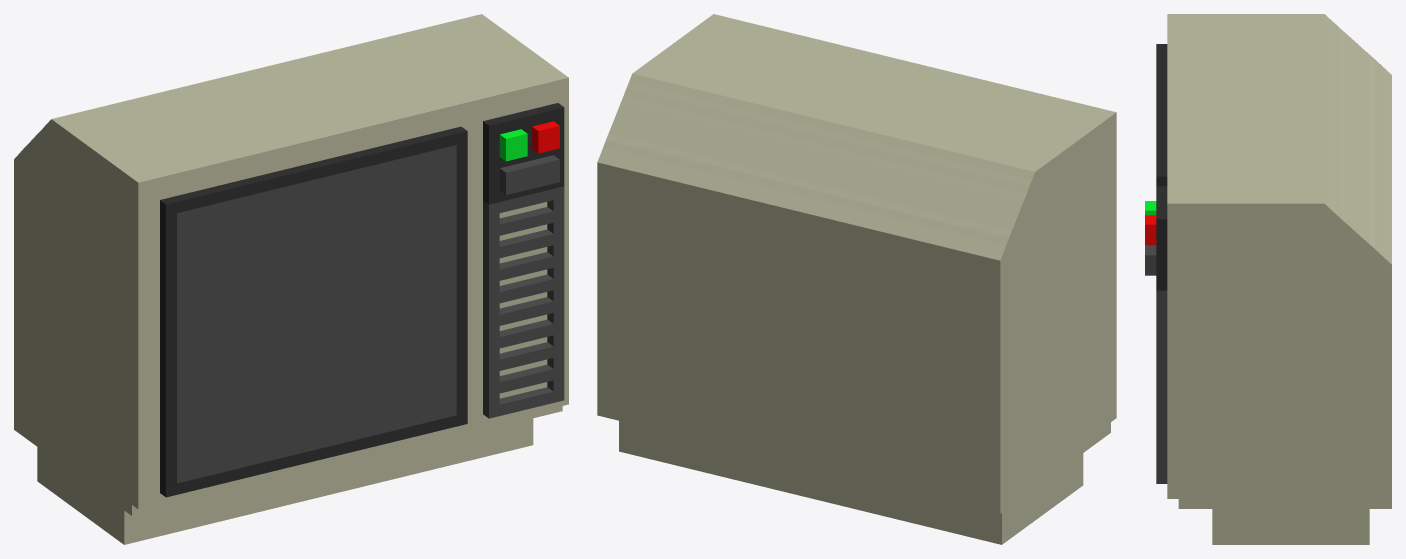
The picture shows the model from 3 angles, left to right: view 1: azimuth 30°, elevation 25°; view 2: azimuth 150°, elevation 25°; view 3: azimuth 270°, elevation 25°; orthographic projection. The views are drawn at different scales.
Parts seen in each view (by area): view 1: Untitled; view 2: Untitled; view 3: Untitled.
Part boxes in pixels (x1,y1,x2,y2): Untitled: (14, 14, 568, 544); Untitled: (597, 14, 1116, 544); Untitled: (1145, 14, 1391, 544).
Bounding box in the file's own units: 4 × 3.4 × 2.2.
Materials: 1 (1 with a texture image).
